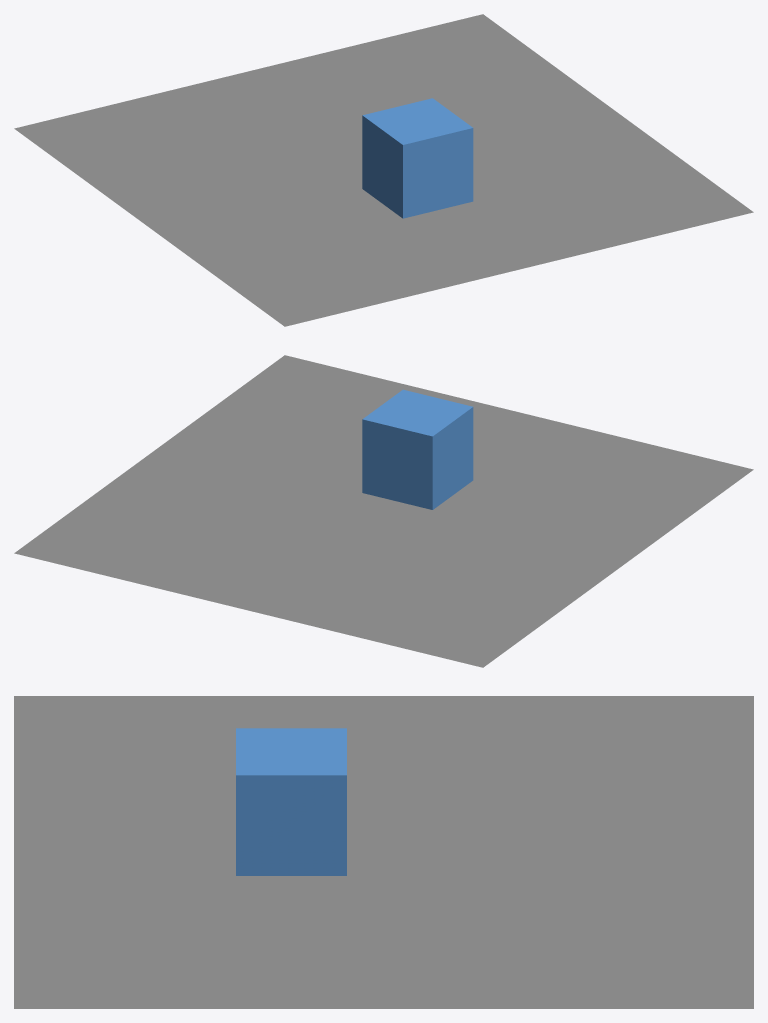
Rendered from CubeAndFloor.gltf.
The picture shows the model from 3 angles, top to bottom: view 1: azimuth 30°, elevation 25°; view 2: azimuth 150°, elevation 25°; view 3: azimuth 270°, elevation 25°; orthographic projection. The views are drawn at different scales.
Size of the model in its own units: 8 by 1.2 by 8.
